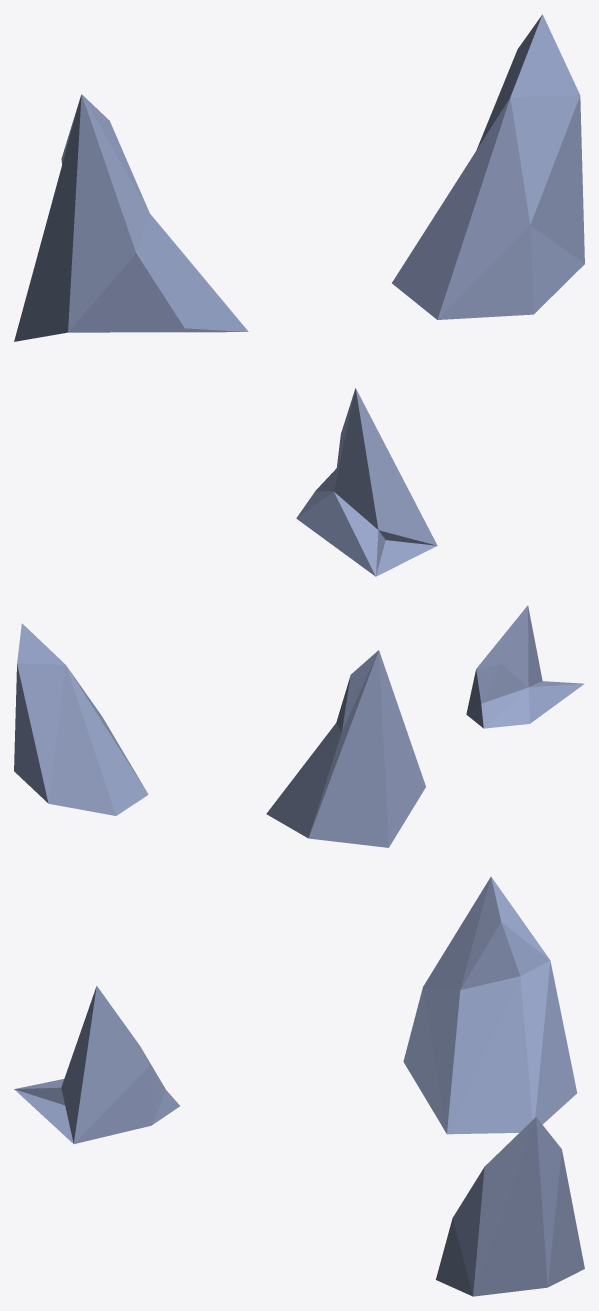
The model's file is plane_ice_rock03.FBX.
The picture shows the model from 3 angles, top to bottom: view 1: azimuth 30°, elevation 25°; view 2: azimuth 150°, elevation 25°; view 3: azimuth 270°, elevation 25°; orthographic projection. The views are drawn at different scales.
Visible parts, largest first — view 1: rock002; view 2: rock002; view 3: rock002.
Boxes of the visible parts, x1,y1,x2,y2 form: rock002: (14, 14, 584, 576); rock002: (14, 605, 584, 847); rock002: (14, 876, 584, 1296).
Size of the model in its own units: 28.42 by 15.31 by 32.59.
Materials: 1 (1 with a texture image).
